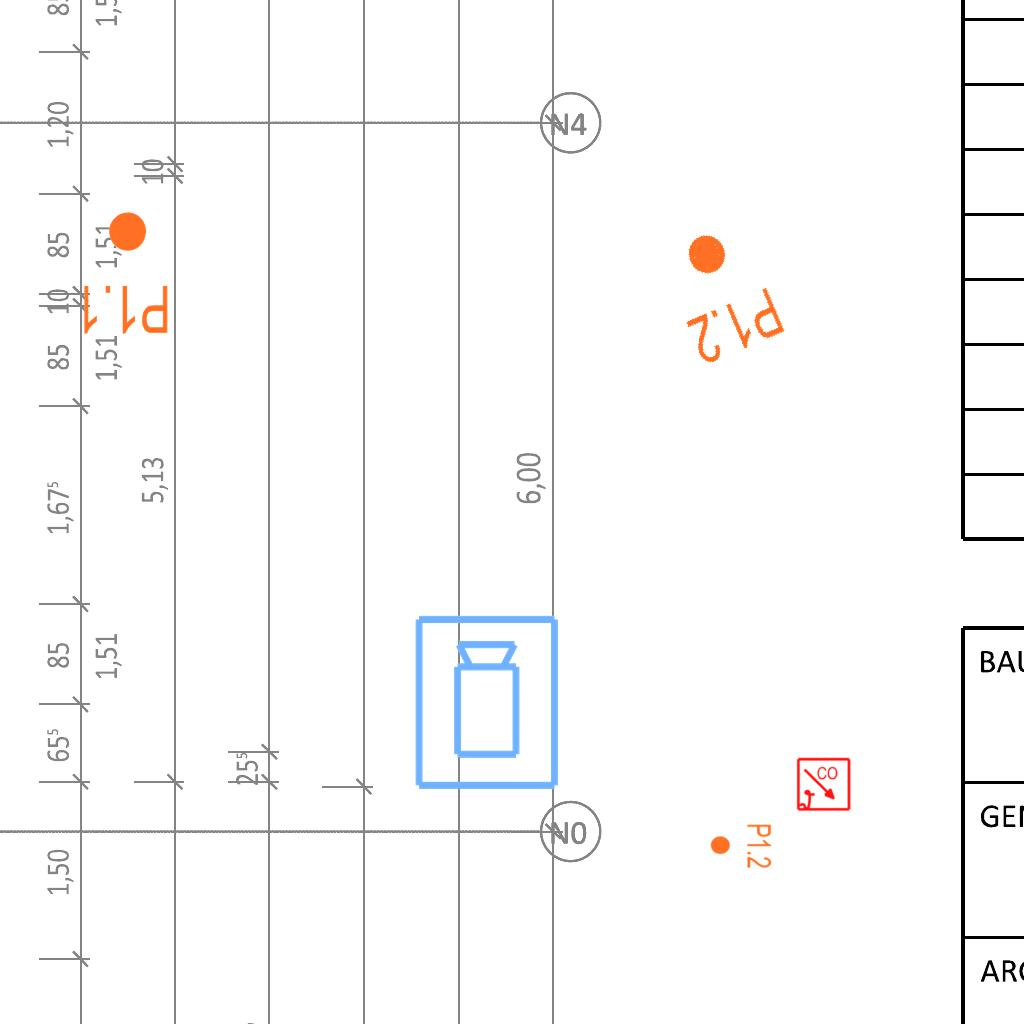Downlight_LED_Einbauleuchten_Flur: (653, 215, 790, 371), (78, 209, 171, 337), (709, 823, 773, 869)
KFO_Kamera_mit_Festobjektiv: (411, 612, 565, 794)
ROA_Rauchmelder_optisch_mit_Signalgeber_(Sockelsirene): (796, 757, 852, 813)
